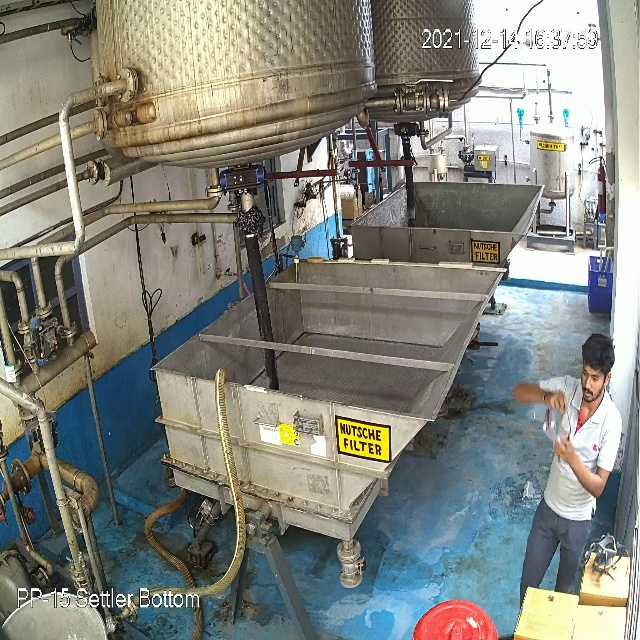Sin_gafas: (577, 364, 608, 387)
Sin_mascara: (579, 375, 605, 405)
